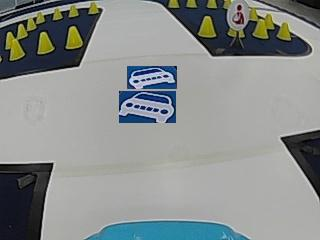cone: (37, 31, 54, 54), (65, 26, 82, 49), (198, 16, 216, 37), (9, 37, 24, 59), (254, 19, 268, 38), (277, 22, 291, 40), (16, 23, 28, 38), (87, 2, 99, 15), (52, 7, 63, 20), (68, 5, 79, 17), (26, 17, 36, 29), (35, 11, 45, 23), (248, 8, 258, 20), (206, 0, 217, 9), (167, 0, 179, 8), (185, 0, 197, 8)
patient: (229, 0, 246, 28)
